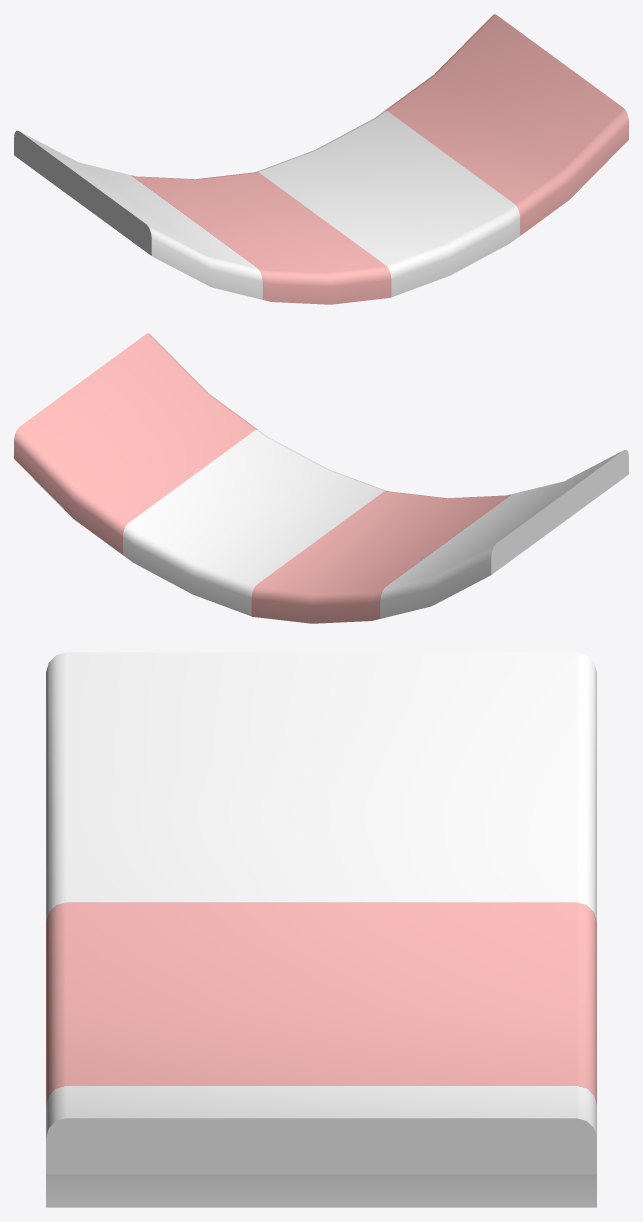
The model's file is RoadDown_red.fbx.
3 renders of one model, top to bottom at view 1: azimuth 30°, elevation 25°; view 2: azimuth 150°, elevation 25°; view 3: azimuth 270°, elevation 25°, orthographic. The views are drawn at different scales.
Visible parts, largest first — view 1: RoadDown_red; view 2: RoadDown_red; view 3: RoadDown_red.
Part boxes in pixels (bbox=[...]): RoadDown_red: bbox=[14, 14, 628, 304]; RoadDown_red: bbox=[14, 333, 628, 623]; RoadDown_red: bbox=[46, 652, 596, 1207].
Bounding box in the file's own units: 600 × 154 × 300.
Materials: 1 (1 with a texture image).
